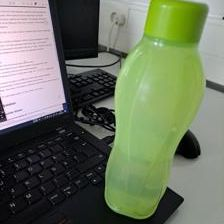bottle: (102, 1, 209, 218)
